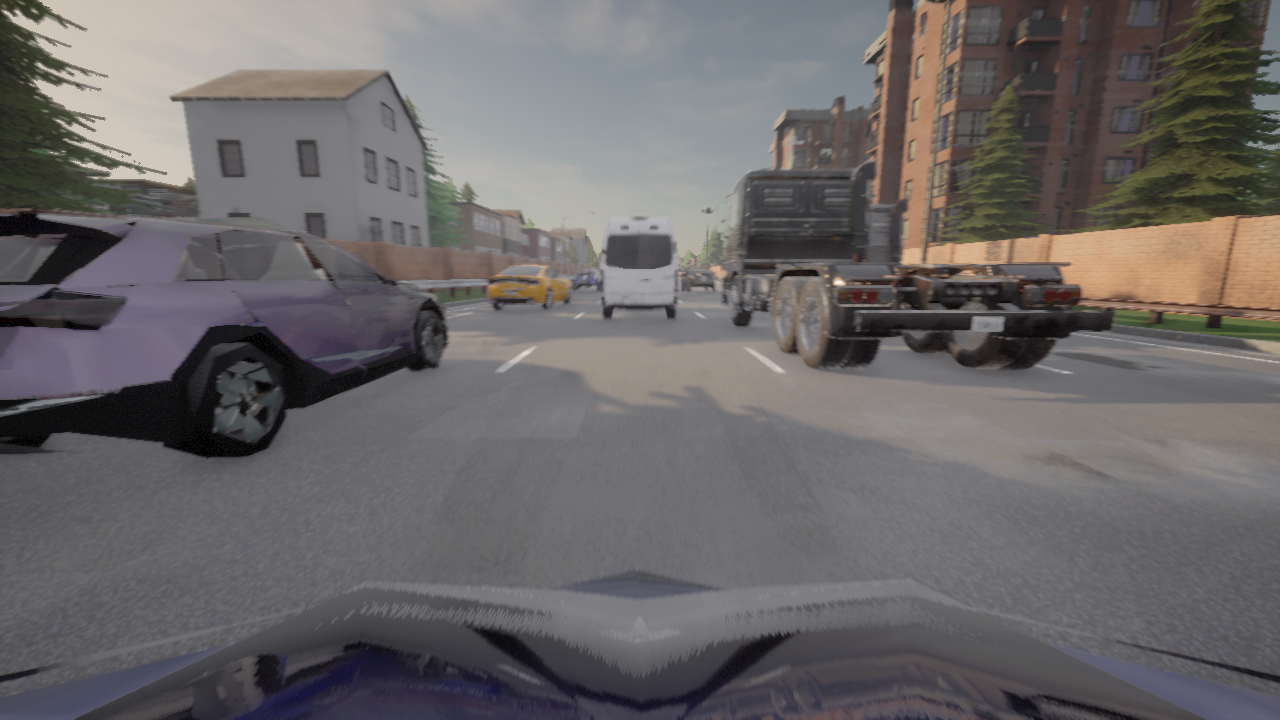cyclist: (0, 569, 1279, 719), (0, 209, 447, 458), (715, 161, 1114, 368), (869, 200, 980, 275), (600, 217, 678, 318), (488, 264, 571, 309), (681, 268, 716, 292), (572, 269, 600, 291)
